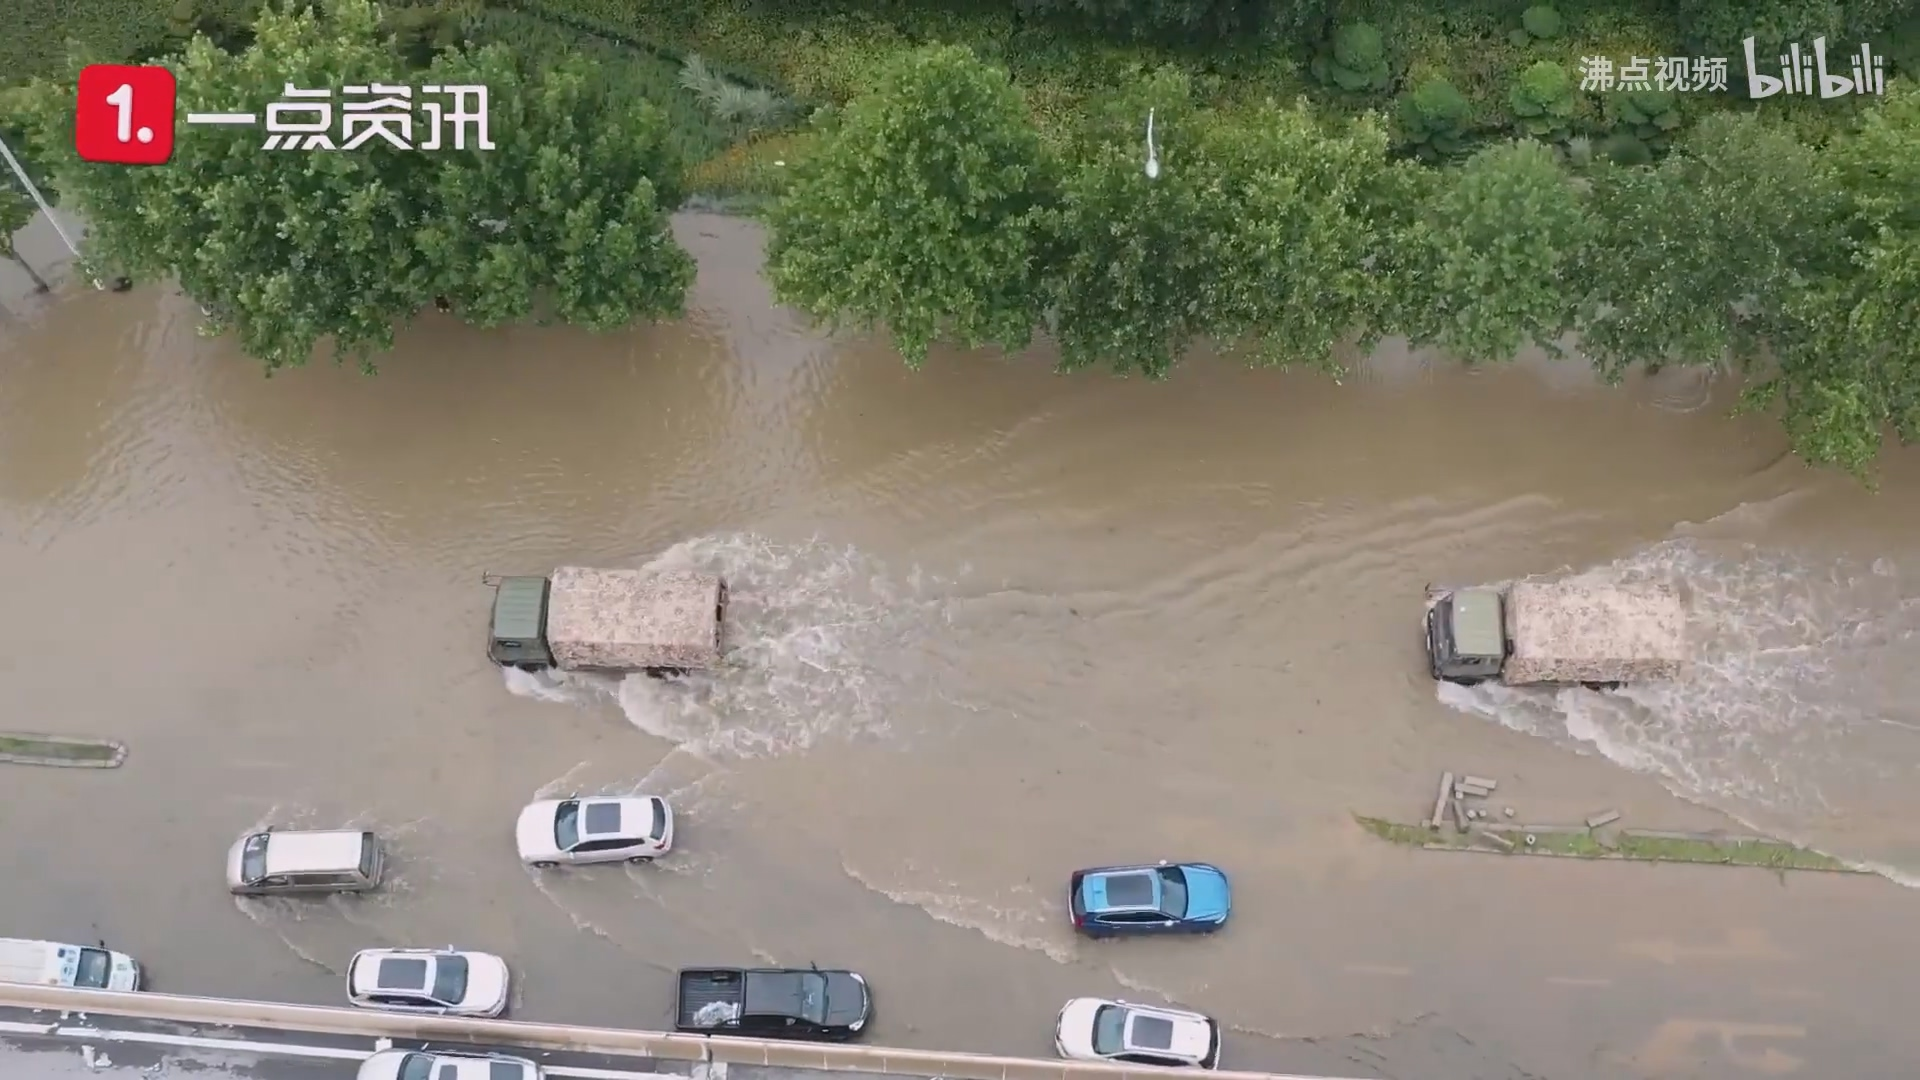puddle: (47, 302, 1878, 1067)
